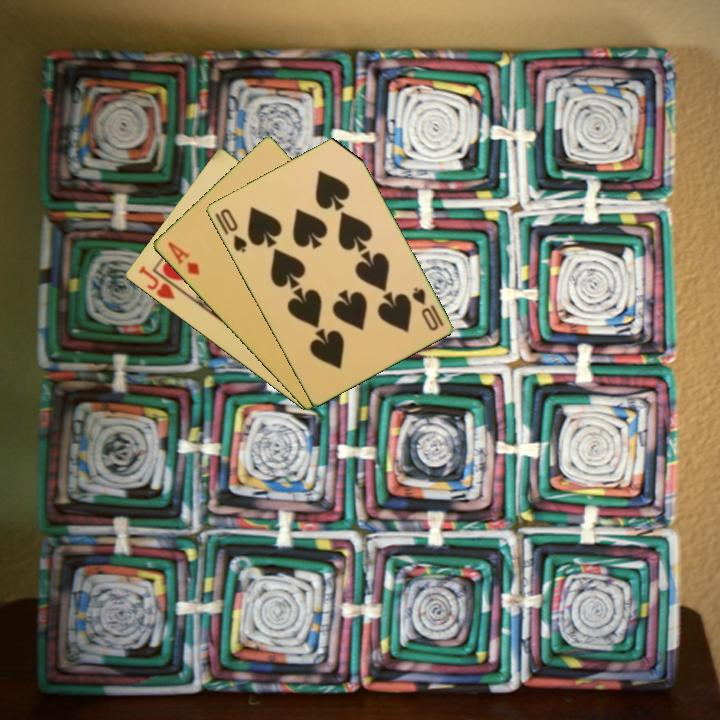10s: (408, 283, 446, 334), (216, 205, 250, 255)
Ad: (164, 238, 202, 278)
Jh: (134, 262, 186, 303)
